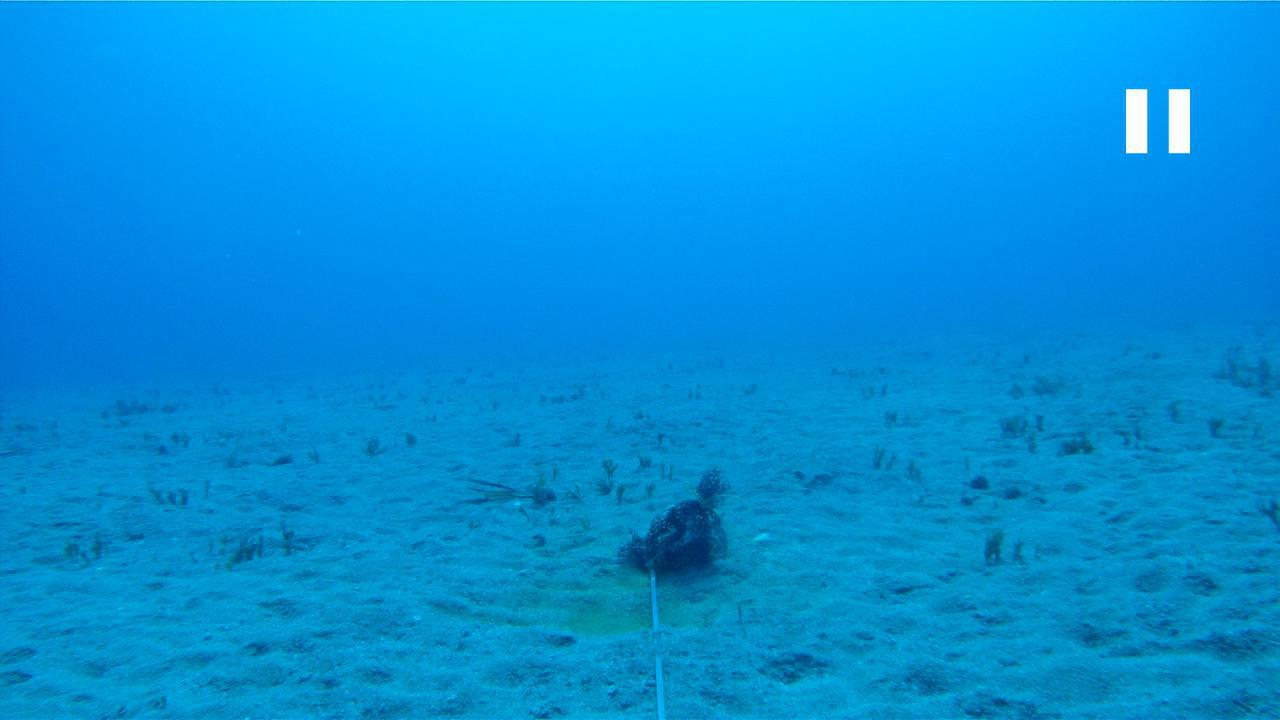bothus: (788, 447, 836, 488)
